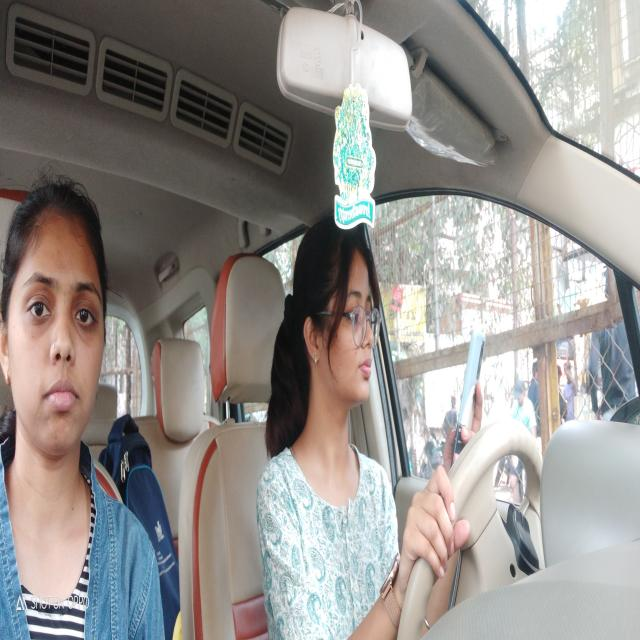mobile: (452, 321, 488, 475)
person: (2, 174, 112, 472), (287, 203, 382, 447)
